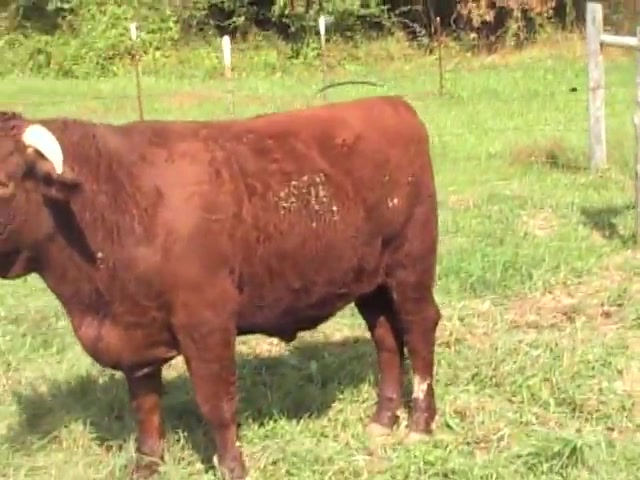cow: (1, 95, 442, 480)
